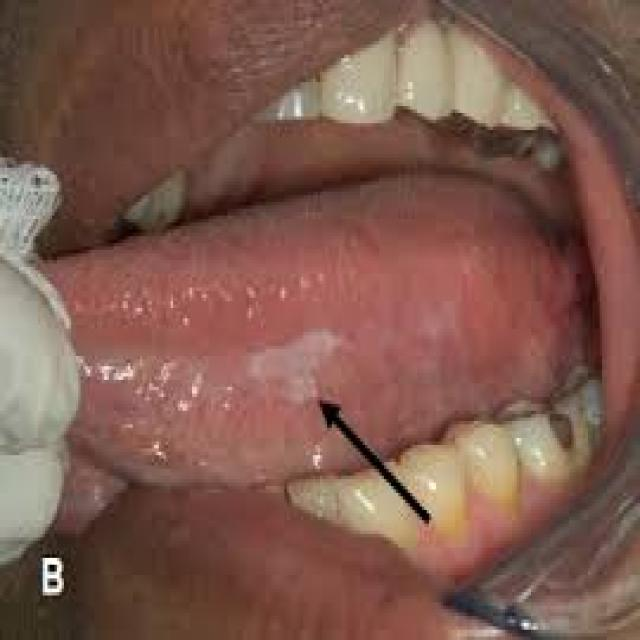discolored_patch: (35, 165, 588, 490)
